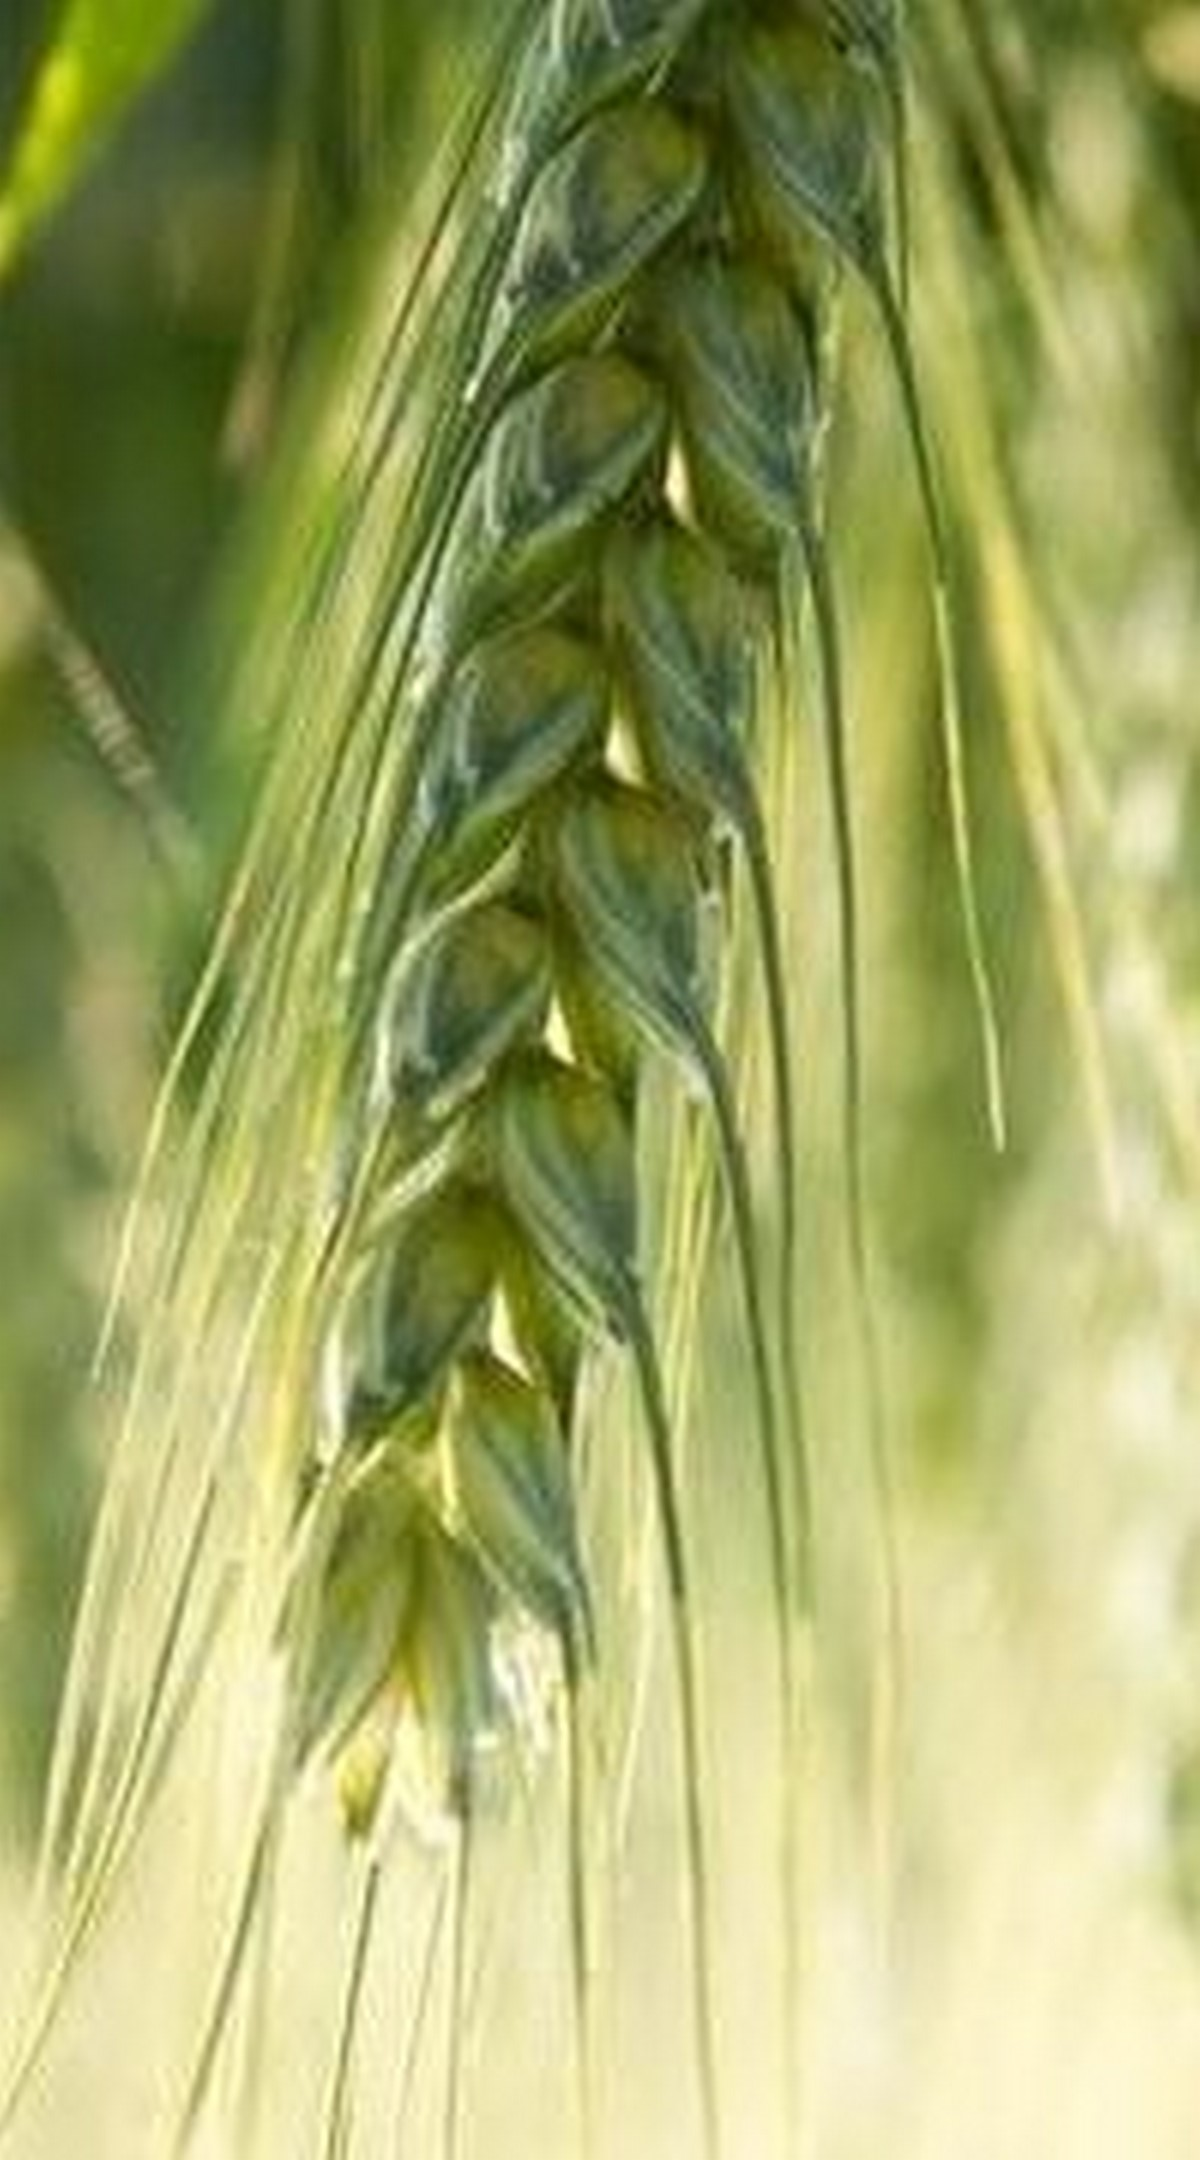Healthy Wheat: (265, 1, 964, 1875)
